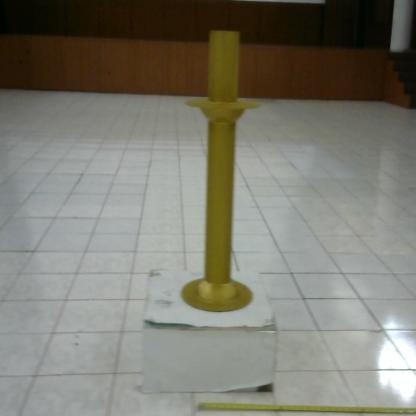pole: (175, 19, 264, 319)
